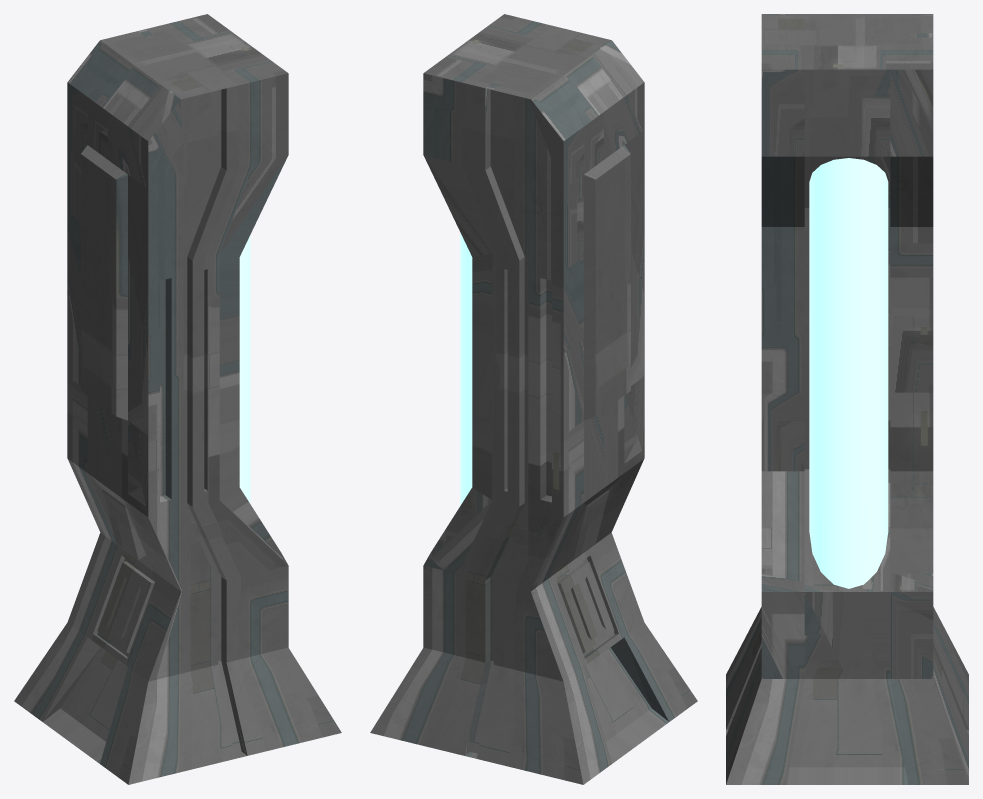
File: Boss Pilar .fbx
3 views of the same model, side by side, from view 1: azimuth 30°, elevation 25°; view 2: azimuth 150°, elevation 25°; view 3: azimuth 270°, elevation 25° (orthographic). The views are drawn at different scales.
Visible parts, largest first — view 1: Cube, Cylinder; view 2: Cube, Cylinder; view 3: Cube, Cylinder.
Part boxes in pixels (bbox=[...]): Cube: bbox=[14, 14, 341, 784]; Cylinder: bbox=[239, 235, 250, 503]; Cube: bbox=[370, 14, 697, 784]; Cylinder: bbox=[460, 233, 472, 505]; Cube: bbox=[726, 14, 968, 784]; Cylinder: bbox=[809, 158, 888, 588].
Size of the model in its own units: 527 by 1555 by 489.
2 materials, 1 textured.
